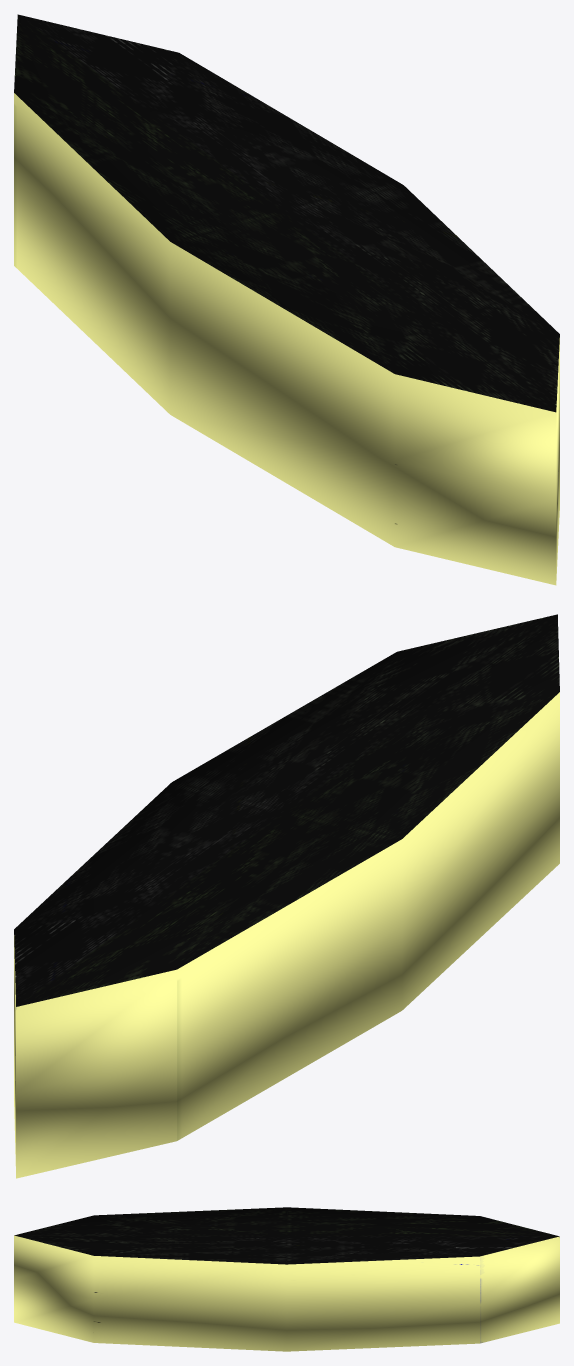
Rendered from laser.fbx.
3 views of the same model, one above another, from view 1: azimuth 30°, elevation 25°; view 2: azimuth 150°, elevation 25°; view 3: azimuth 270°, elevation 25° (orthographic). The views are drawn at different scales.
Parts seen in each view (by area): view 1: cylinder; view 2: cylinder; view 3: cylinder.
Boxes of the visible parts, x1,y1,x2,y2 form: cylinder: (14, 14, 559, 585); cylinder: (14, 614, 559, 1178); cylinder: (14, 1207, 559, 1351).
Size of the model in its own units: 0.0902 by 0.064 by 0.3635.
Materials: 1 (1 with a texture image).
